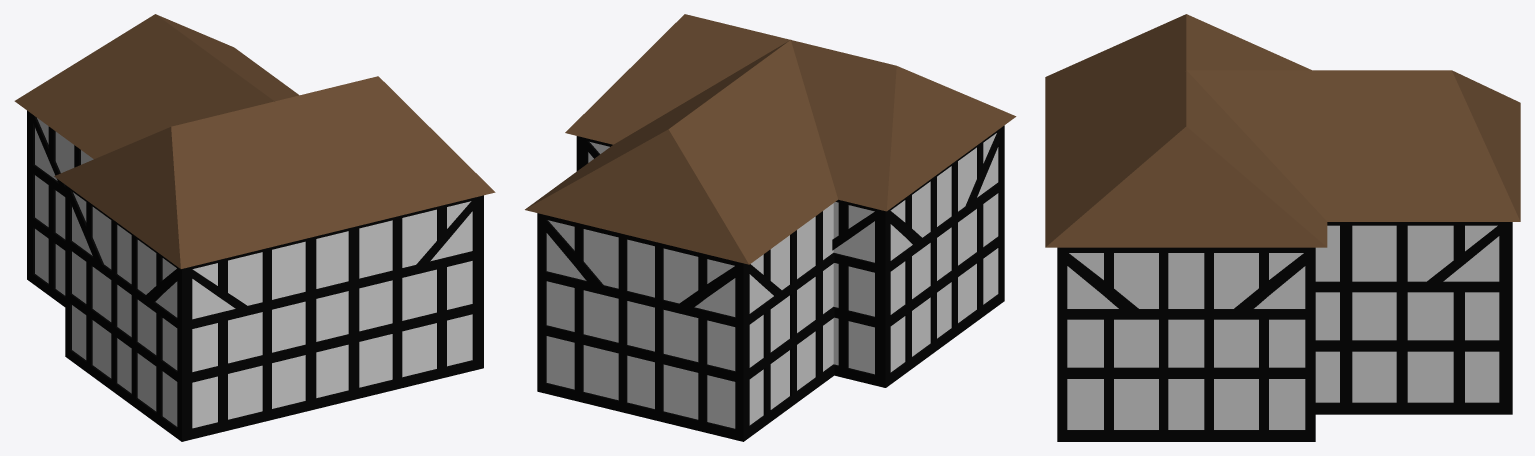
File: 02_res_small_var2.fbx
The picture shows the model from 3 angles, left to right: view 1: azimuth 30°, elevation 25°; view 2: azimuth 150°, elevation 25°; view 3: azimuth 270°, elevation 25°; orthographic projection. The views are drawn at different scales.
Visible parts, largest first — view 1: Cube.007; view 2: Cube.007; view 3: Cube.007.
Part boxes in pixels (x1,y1,x2,y2): Cube.007: [14, 14, 495, 441]; Cube.007: [525, 14, 1016, 441]; Cube.007: [1045, 14, 1520, 441].
Bounding box in the file's own units: 73.25 × 58.07 × 86.25.
